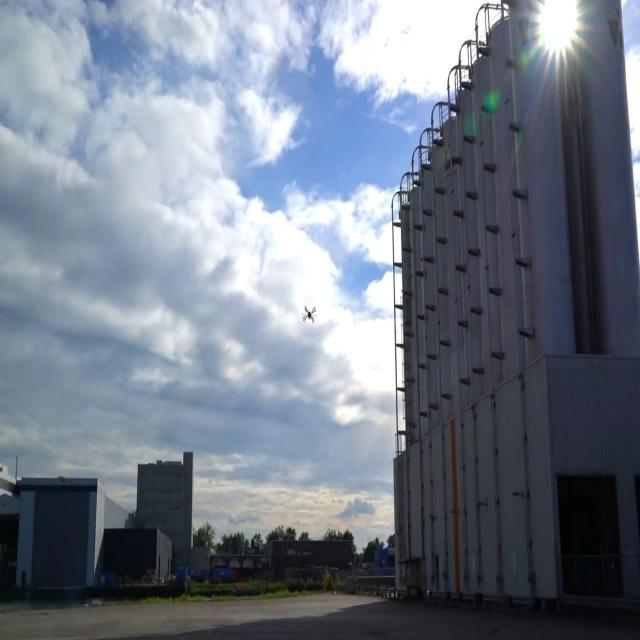drone: (302, 304, 316, 325)
